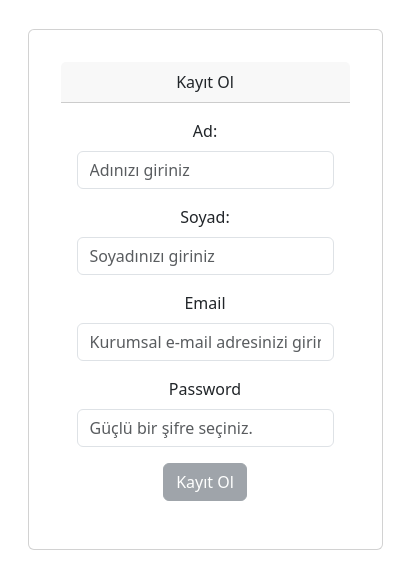
Test case: Login Page › Error Messages › Name input throws for 2 chars
Type "em" into the field with test id "ad-input".
click(206, 170); type("em")  # box [77,151,334,189]
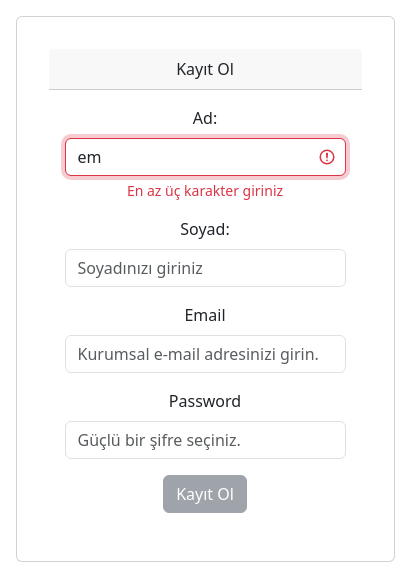
Now the text "En az üç karakter giriniz" is shown, box [127,181,283,200]
